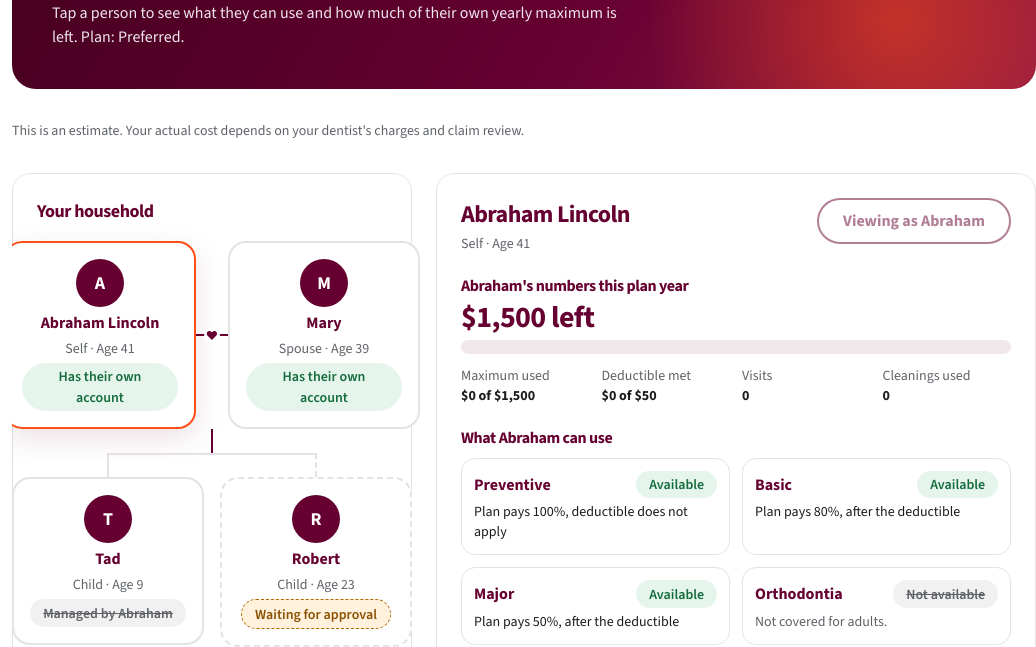
Scenario: Family page › shows Robert as pending with his note and pending service chips
Click the button with test id "node-m-noah": x=316, y=562 [220,477,412,646]
(page scrolled)
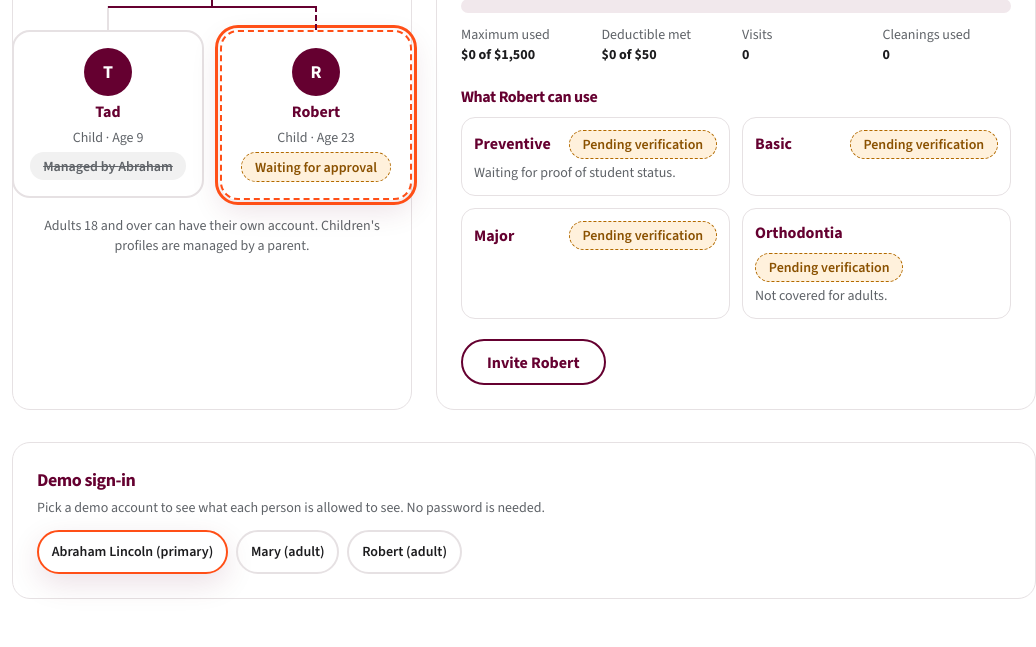
Expected: the list item with test id "service-preventive" is shown, [461,117,730,196]
Expected: the text "Pending verification" next to "Preventive" is shown, [582,135,703,154]
Expected: the text "Pending verification" below "Orthodontia" is shown, [769,258,890,277]
